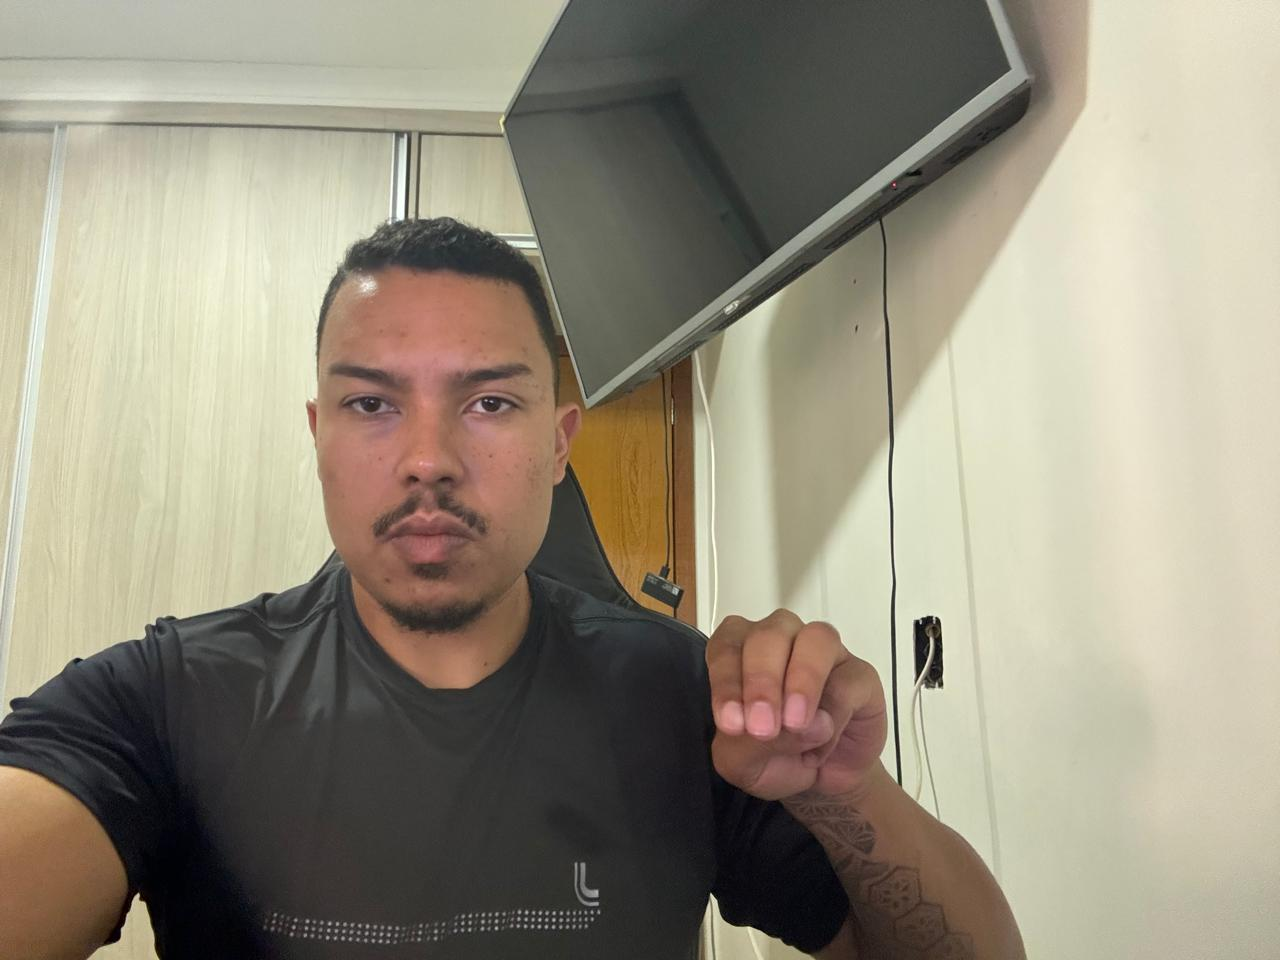m: (698, 594, 897, 808)
